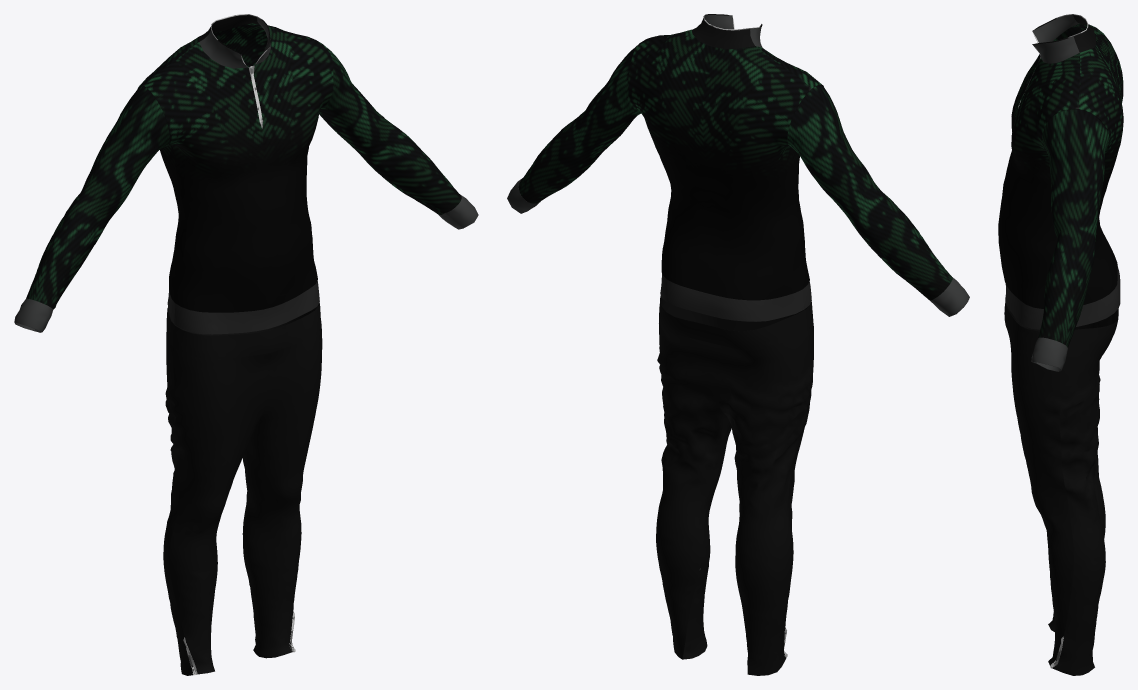
File: tracksuit.glb
3 renders of one model, left to right at view 1: azimuth 30°, elevation 25°; view 2: azimuth 150°, elevation 25°; view 3: azimuth 270°, elevation 25°, orthographic. The views are drawn at different scales.
Parts seen in each view (by area): view 1: Object_25, Object_23, Object_30, Object_26; view 2: Object_25, Object_23, Object_30; view 3: Object_25, Object_23, Object_30, Object_26, Object_24.
Boxes of the visible parts, <box> form: Object_25: <box>26,25,461,334</box>; Object_23: <box>163,15,322,675</box>; Object_30: <box>14,17,478,332</box>; Object_26: <box>138,23,293,334</box>; Object_25: <box>518,30,952,321</box>; Object_23: <box>656,18,813,675</box>; Object_30: <box>507,15,969,316</box>; Object_25: <box>998,24,1123,347</box>; Object_23: <box>1004,15,1118,675</box>; Object_30: <box>1031,15,1079,371</box>; Object_26: <box>1017,23,1115,329</box>; Object_24: <box>1032,14,1088,55</box>.
Size of the model in its own units: 1160 by 1557 by 281.
Materials: 28 (25 with a texture image).
